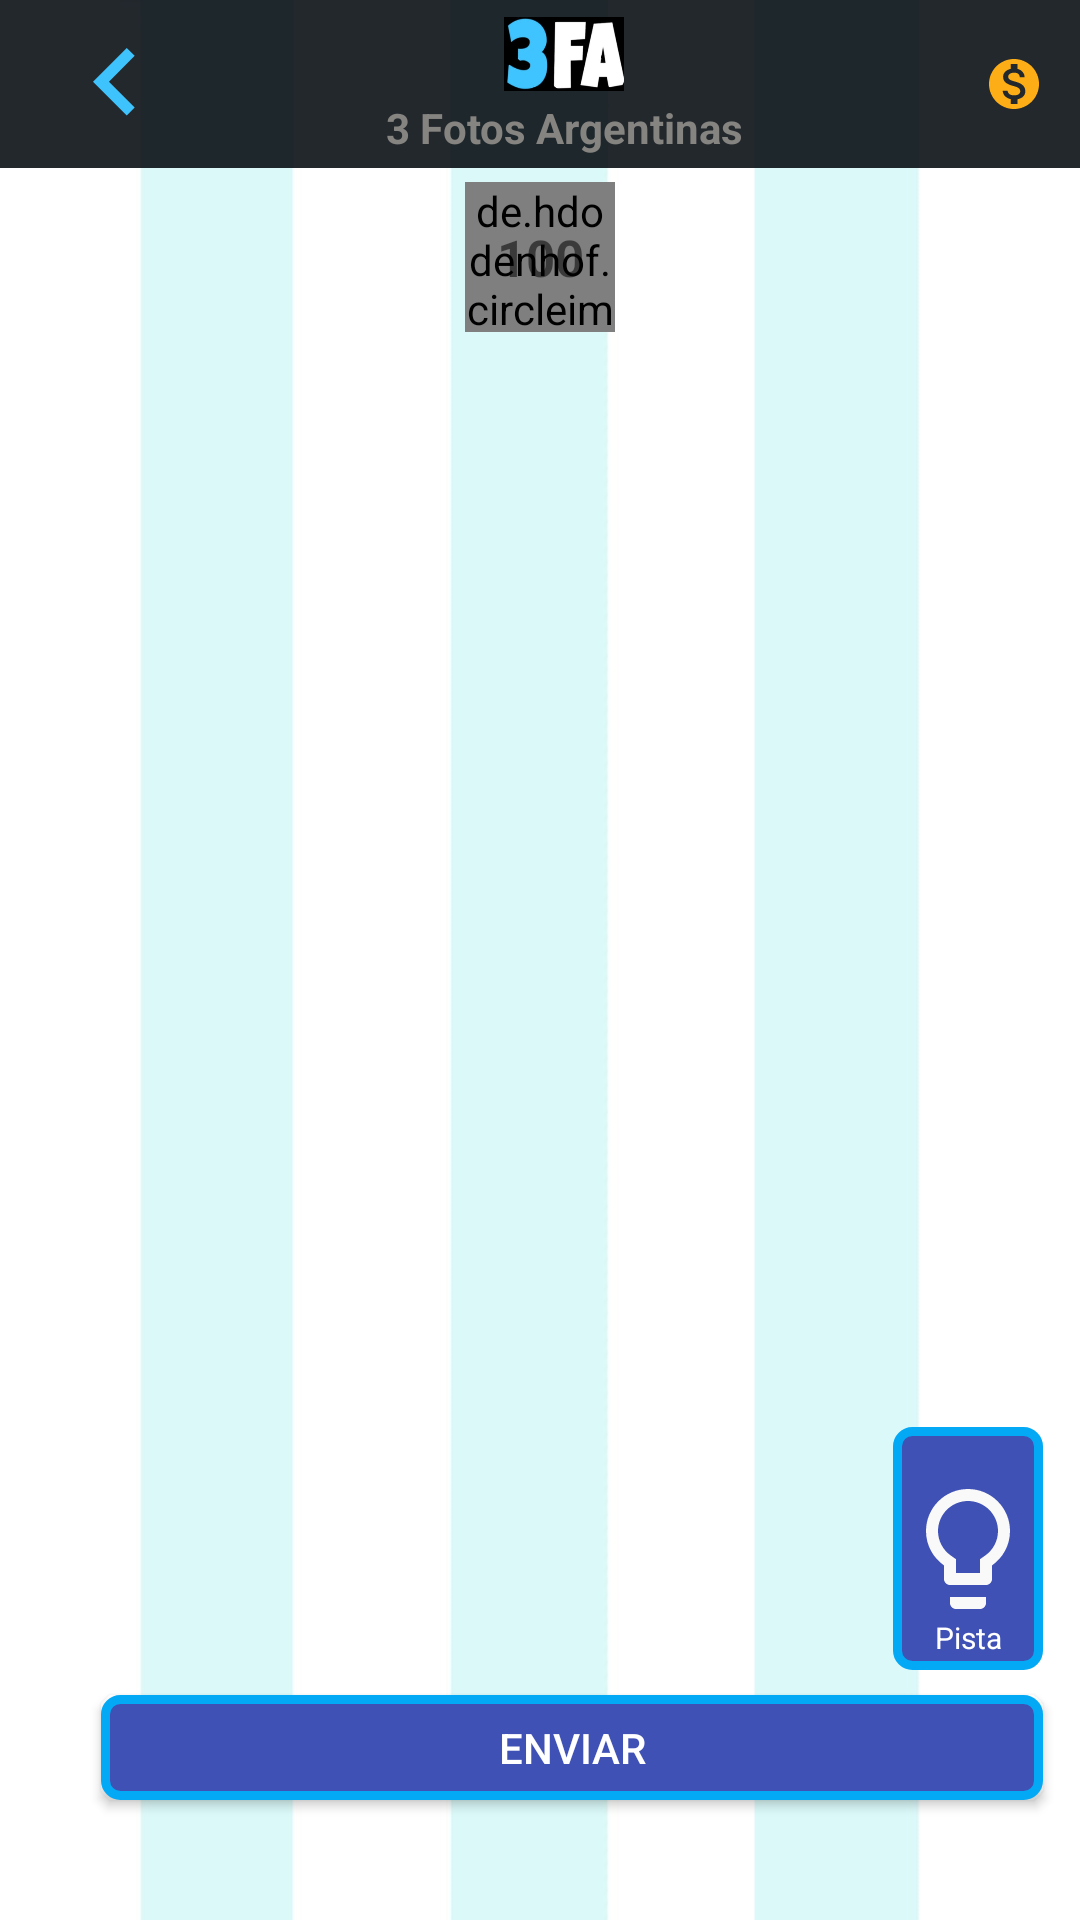

Screen size 1080*1920. Icon name, then its center in pixels as [x,y]:
go back lightblue: [114,82]
lightbulb: [968,1548]
money: [1014,84]
